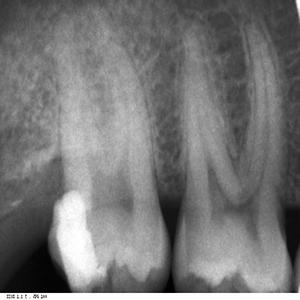tooth: (58, 14, 175, 292), (180, 32, 296, 296)
